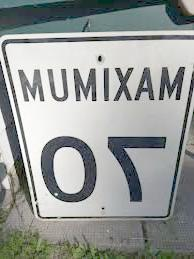speed limit sign: (4, 38, 178, 220)
